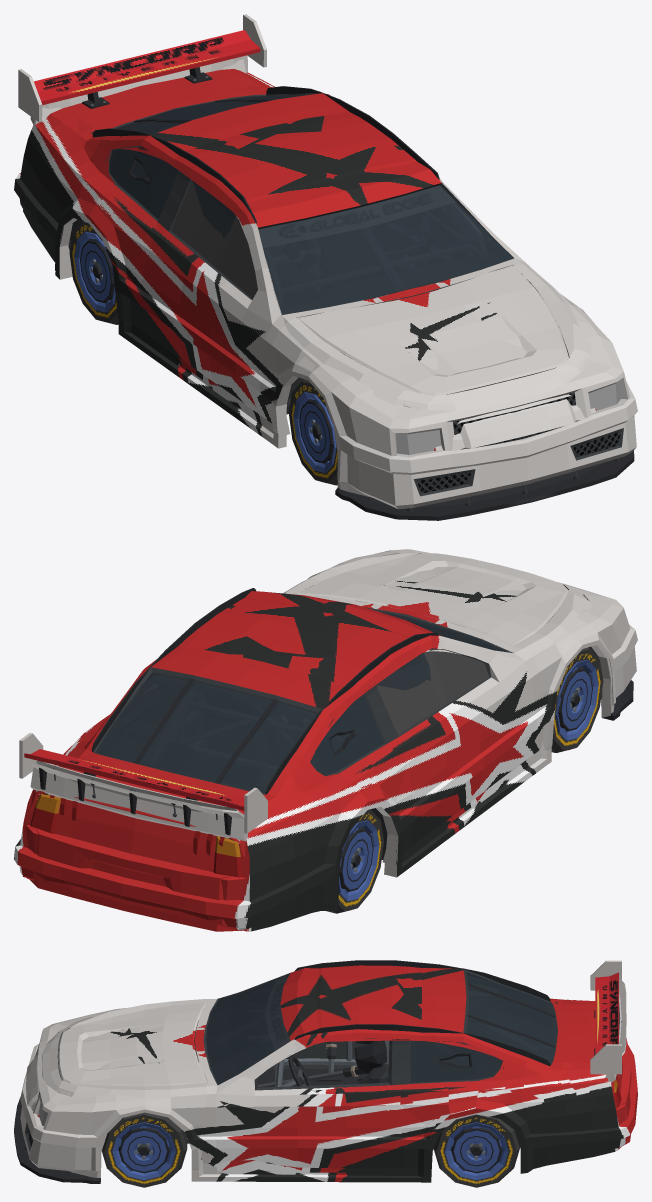
The model's file is redline_pro_stock.glb.
The picture shows the model from 3 angles, top to bottom: view 1: azimuth 30°, elevation 25°; view 2: azimuth 150°, elevation 25°; view 3: azimuth 270°, elevation 25°; orthographic projection. The views are drawn at different scales.
Visible parts, largest first — view 1: V_Body_03, V_Body_01, V_Body_02, W_Wheel_FR_03, W_Wheel_RR_03, W_Wheel_RR_06, W_Wheel_FR_06; view 2: V_Body_03, V_Body_01, V_Body_02, W_Wheel_FR_03, W_Wheel_RR_03, W_Wheel_FR_06, W_Wheel_RR_06; view 3: V_Body_03, V_Body_01, V_Body_02, Body, W_Wheel_FL_03, W_Wheel_RL_03, W_Wheel_FL_06, W_Wheel_RL_06, W_Wheel_RL_05, W_Wheel_FL_05.
Part boxes in pixels (x1,y1,x2,y2): V_Body_03: (14,55,637,509); V_Body_01: (23,59,604,507); V_Body_02: (18,14,634,520); W_Wheel_FR_03: (288,379,337,485); W_Wheel_RR_03: (69,221,118,324); W_Wheel_RR_06: (80,238,114,303); W_Wheel_FR_06: (299,399,333,463); V_Body_03: (14,549,637,930); V_Body_01: (22,553,620,931); V_Body_02: (19,569,633,931); W_Wheel_FR_03: (551,647,603,752); W_Wheel_RR_03: (334,809,383,913); W_Wheel_FR_06: (552,666,592,752); W_Wheel_RR_06: (339,827,373,891); V_Body_03: (20,968,637,1172); V_Body_01: (36,965,630,1183); V_Body_02: (14,960,631,1182); Body: (187,1040,389,1143); W_Wheel_FL_03: (102,1112,187,1187); W_Wheel_RL_03: (433,1114,519,1187); W_Wheel_FL_06: (118,1127,187,1173); W_Wheel_RL_06: (451,1127,502,1173); W_Wheel_RL_05: (461,1137,492,1165); W_Wheel_FL_05: (128,1137,159,1165).
Size of the model in its own units: 1.81 by 1.19 by 4.52.
Materials: 4 (3 with a texture image).
